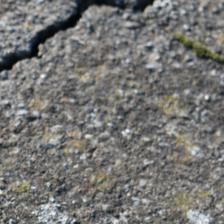Crack: (5, 4, 93, 78)
